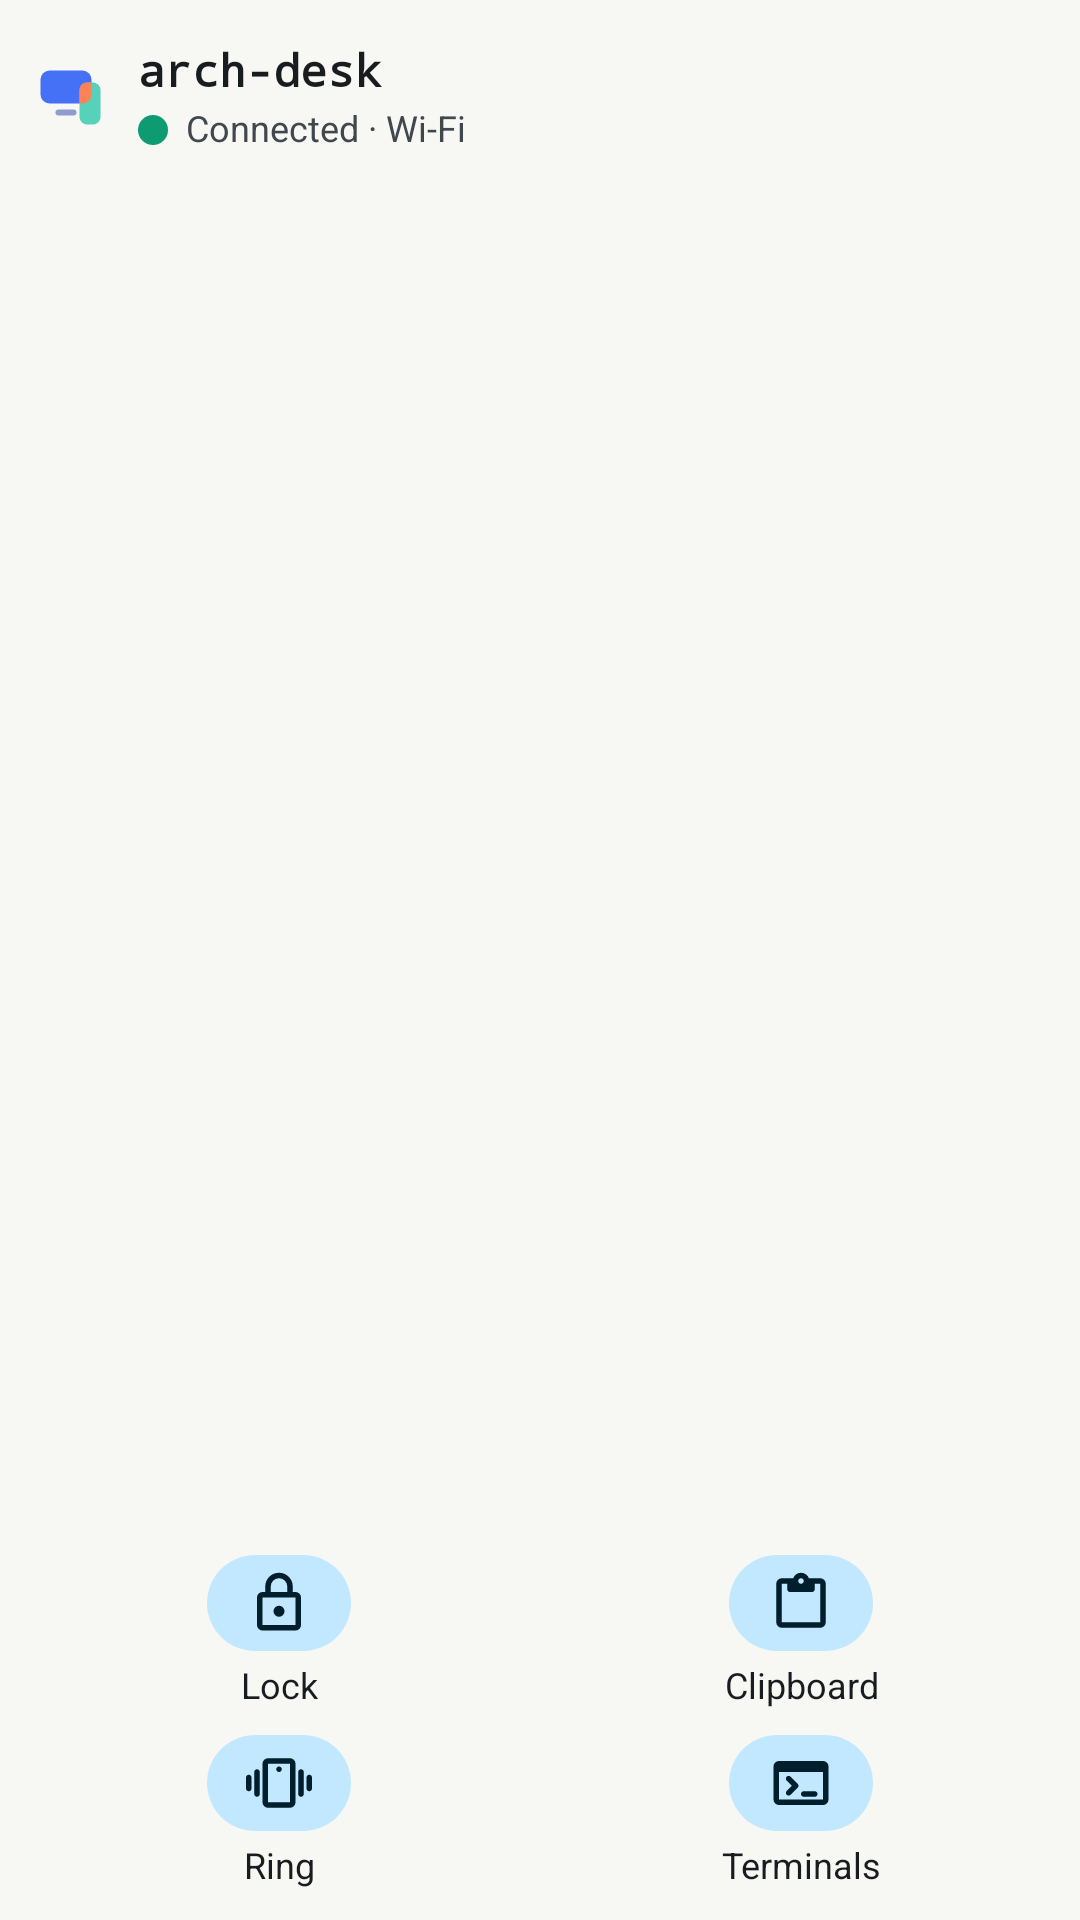

Icons on this 1080px x 1920px Android screen, each with the point to tap as [x,y]:
desklink mark: [70,97]
sym vibration: [279,1783]
